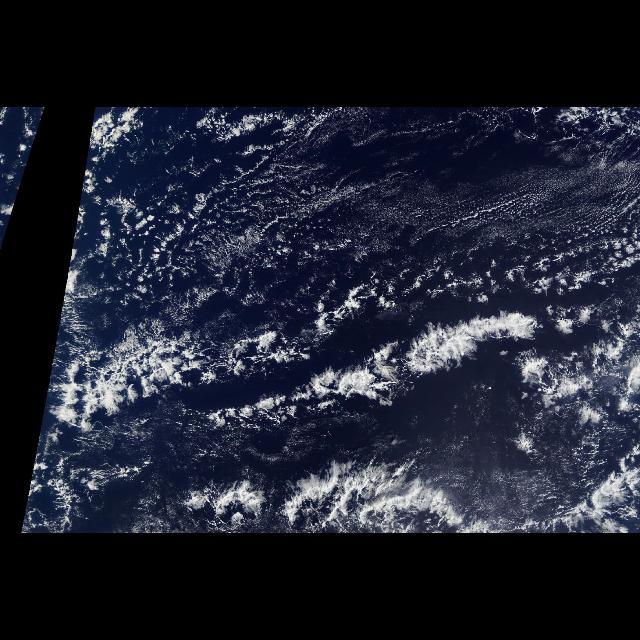Fish: (48, 290, 550, 444), (170, 464, 488, 534)
Gravel: (59, 107, 434, 370)
Sugar: (162, 137, 640, 265)
